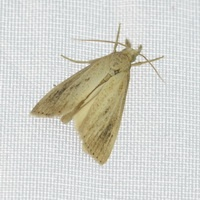insect: (31, 24, 162, 163)
